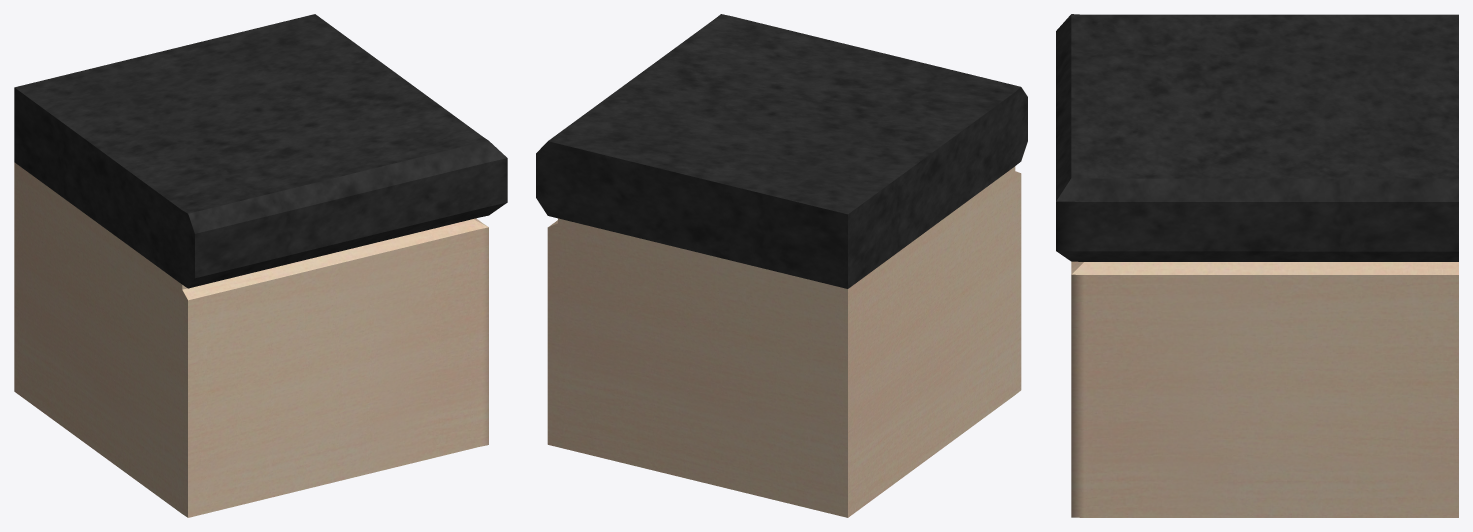
Rendered from top_corner.FBX.
3 views of the same model, side by side, from view 1: azimuth 30°, elevation 25°; view 2: azimuth 150°, elevation 25°; view 3: azimuth 270°, elevation 25° (orthographic). The views are drawn at different scales.
Parts seen in each view (by area): view 1: top_corner; view 2: top_corner; view 3: top_corner.
Boxes of the visible parts, bbox=[...] form: top_corner: bbox=[14, 14, 507, 517]; top_corner: bbox=[536, 14, 1027, 517]; top_corner: bbox=[1056, 14, 1458, 517].
Size of the model in its own units: 1.08 by 1.08 by 1.
1 material, 1 textured.
